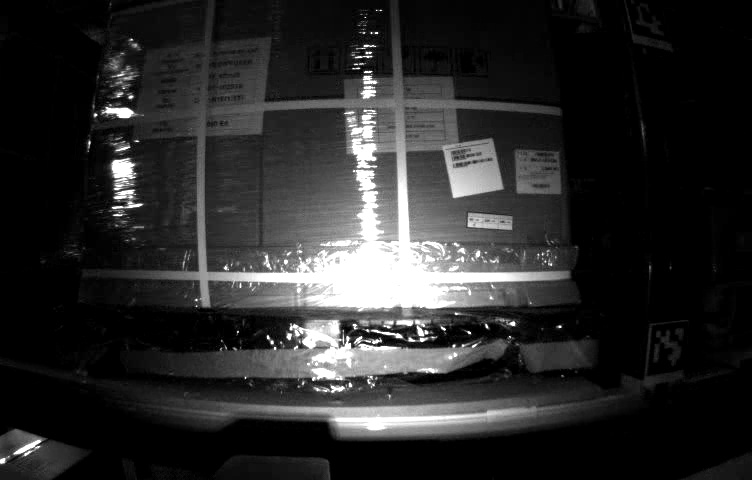True Barcode: (513, 149, 563, 198)
